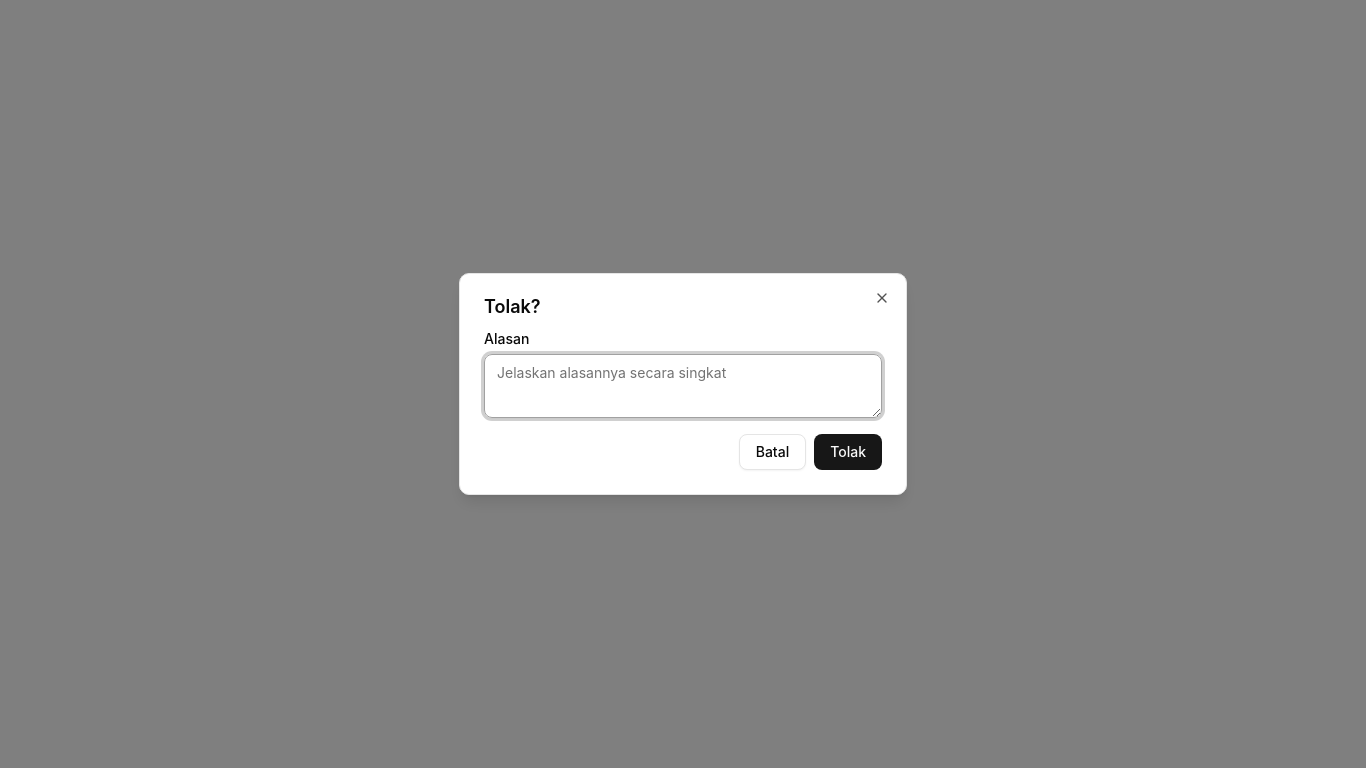
Test: ConfirmWithReasonDialog — alasan wajib › galat dari onConfirm ditampilkan dan dialog tetap terbuka
In the text box labelled "Alasan": coordinates (683, 386) [484,354,882,418], type "Tidak sesuai"
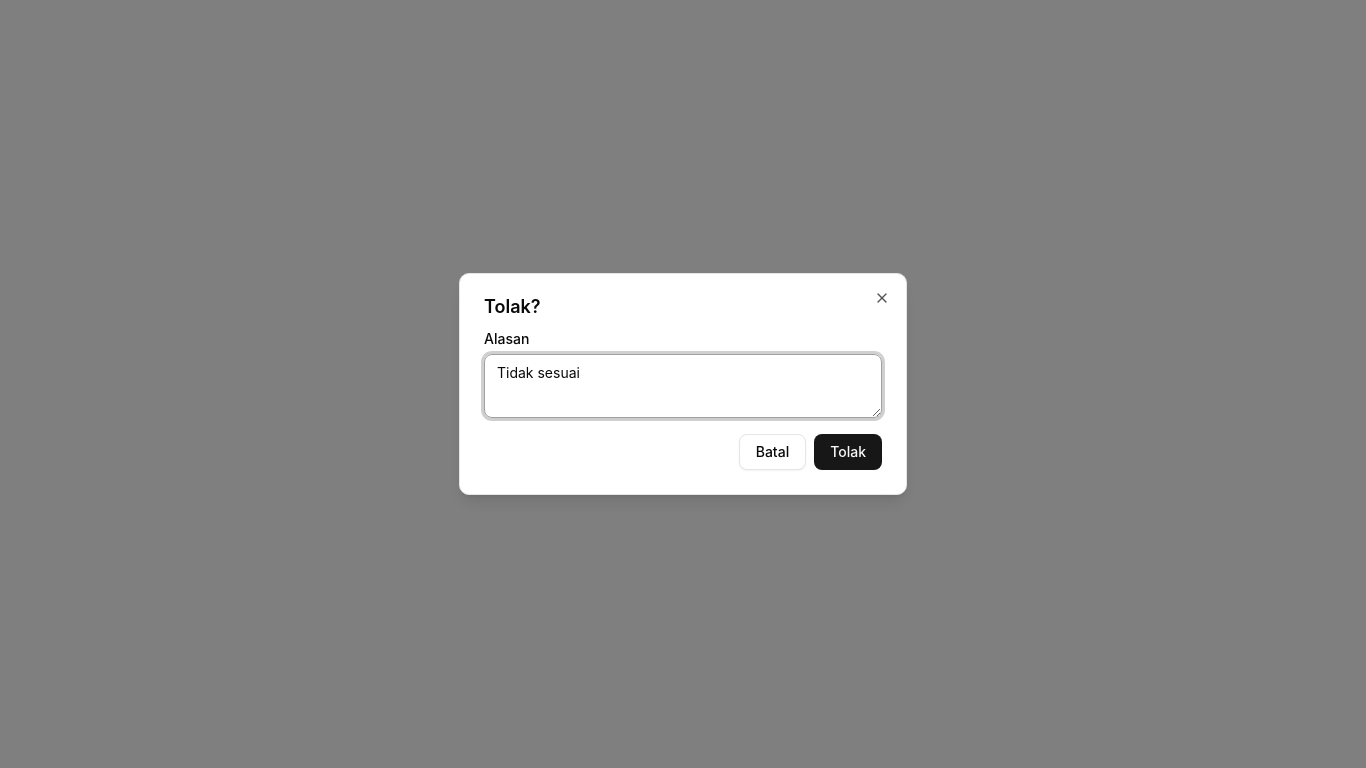
Click the button "Tolak": coordinates (848, 452) [814,434,882,470]
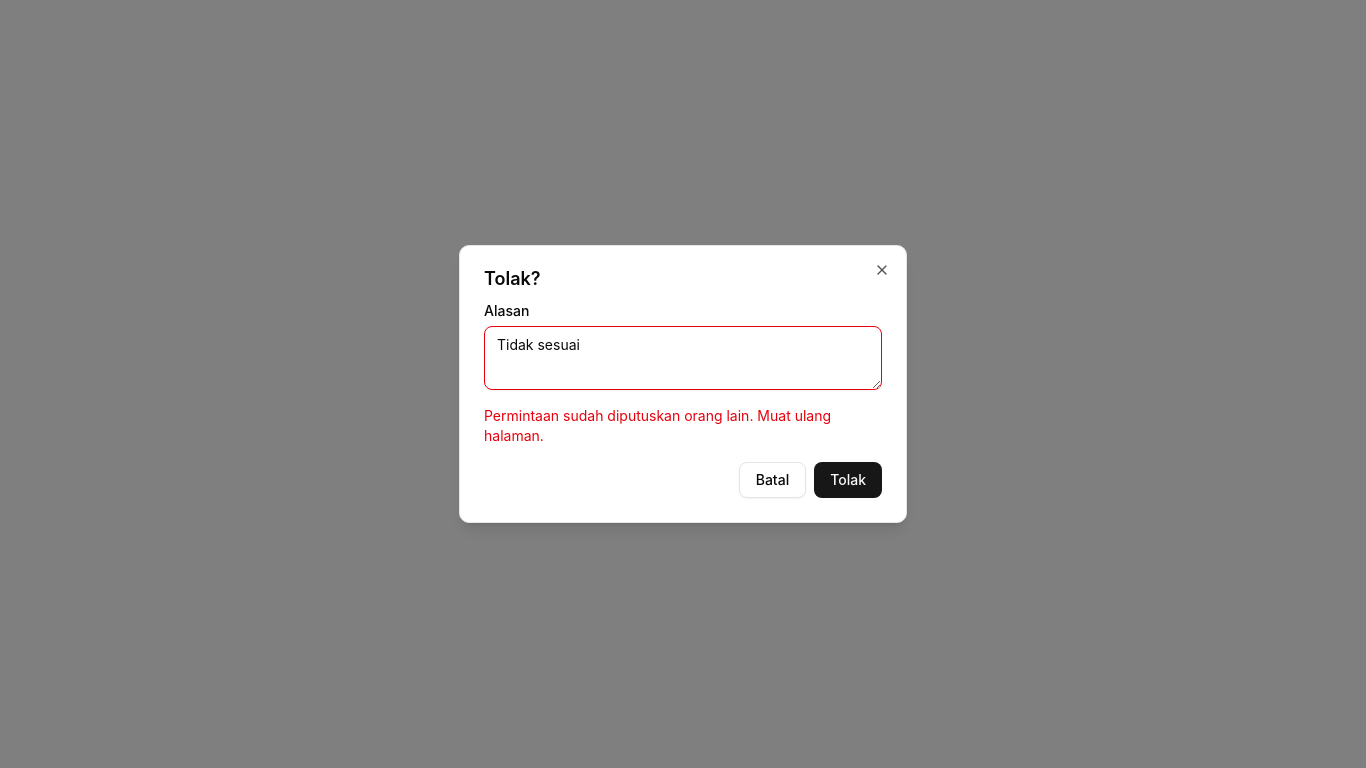
Result: the message shows "sudah diputuskan" at [484,407,831,444]
